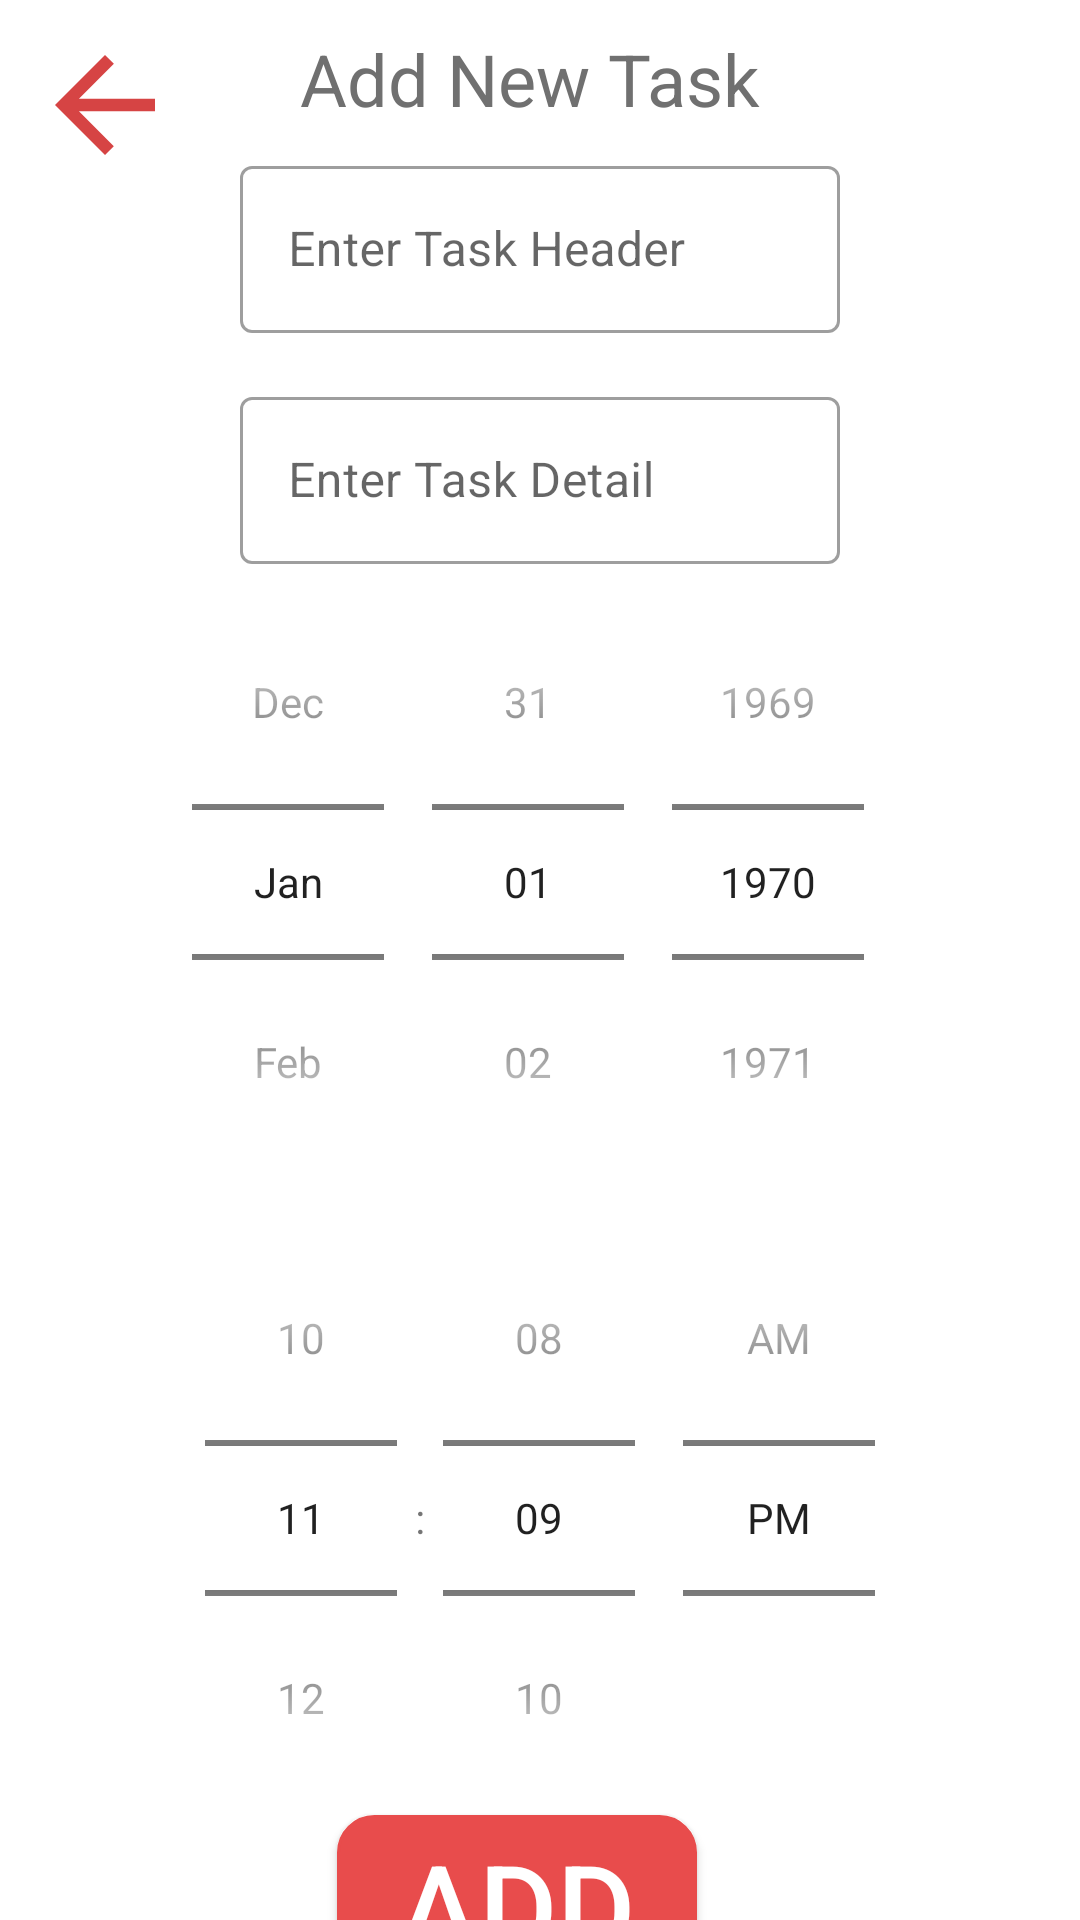

Where to tap for icons on this 1080×1920 app screen, as (x,y):
arrow back: (105,105)
